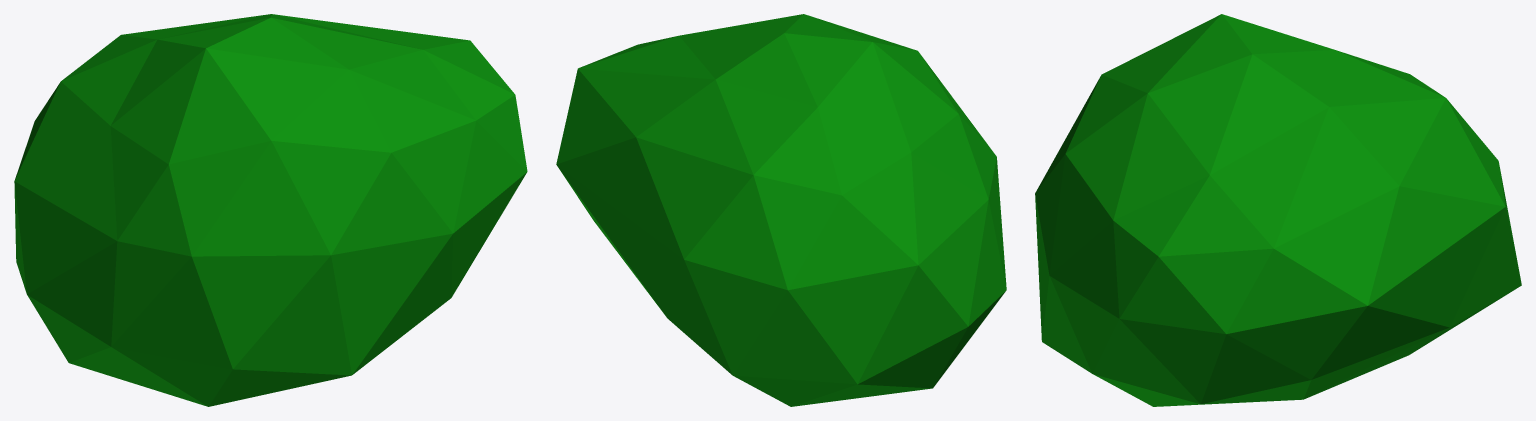
The model's file is lp_tree1_Icosphere_016.obj.
3 views of the same model, side by side, from view 1: azimuth 30°, elevation 25°; view 2: azimuth 150°, elevation 25°; view 3: azimuth 270°, elevation 25° (orthographic). The views are drawn at different scales.
Visible parts, largest first — view 1: lp_tree1_Icosphere_016; view 2: lp_tree1_Icosphere_016; view 3: lp_tree1_Icosphere_016.
Boxes of the visible parts, box(x1,y1,x2,y2) form: lp_tree1_Icosphere_016: box(14, 14, 527, 406); lp_tree1_Icosphere_016: box(556, 14, 1006, 406); lp_tree1_Icosphere_016: box(1035, 14, 1521, 406).
Bounding box in the file's own units: 6.25 × 4.42 × 5.46.
